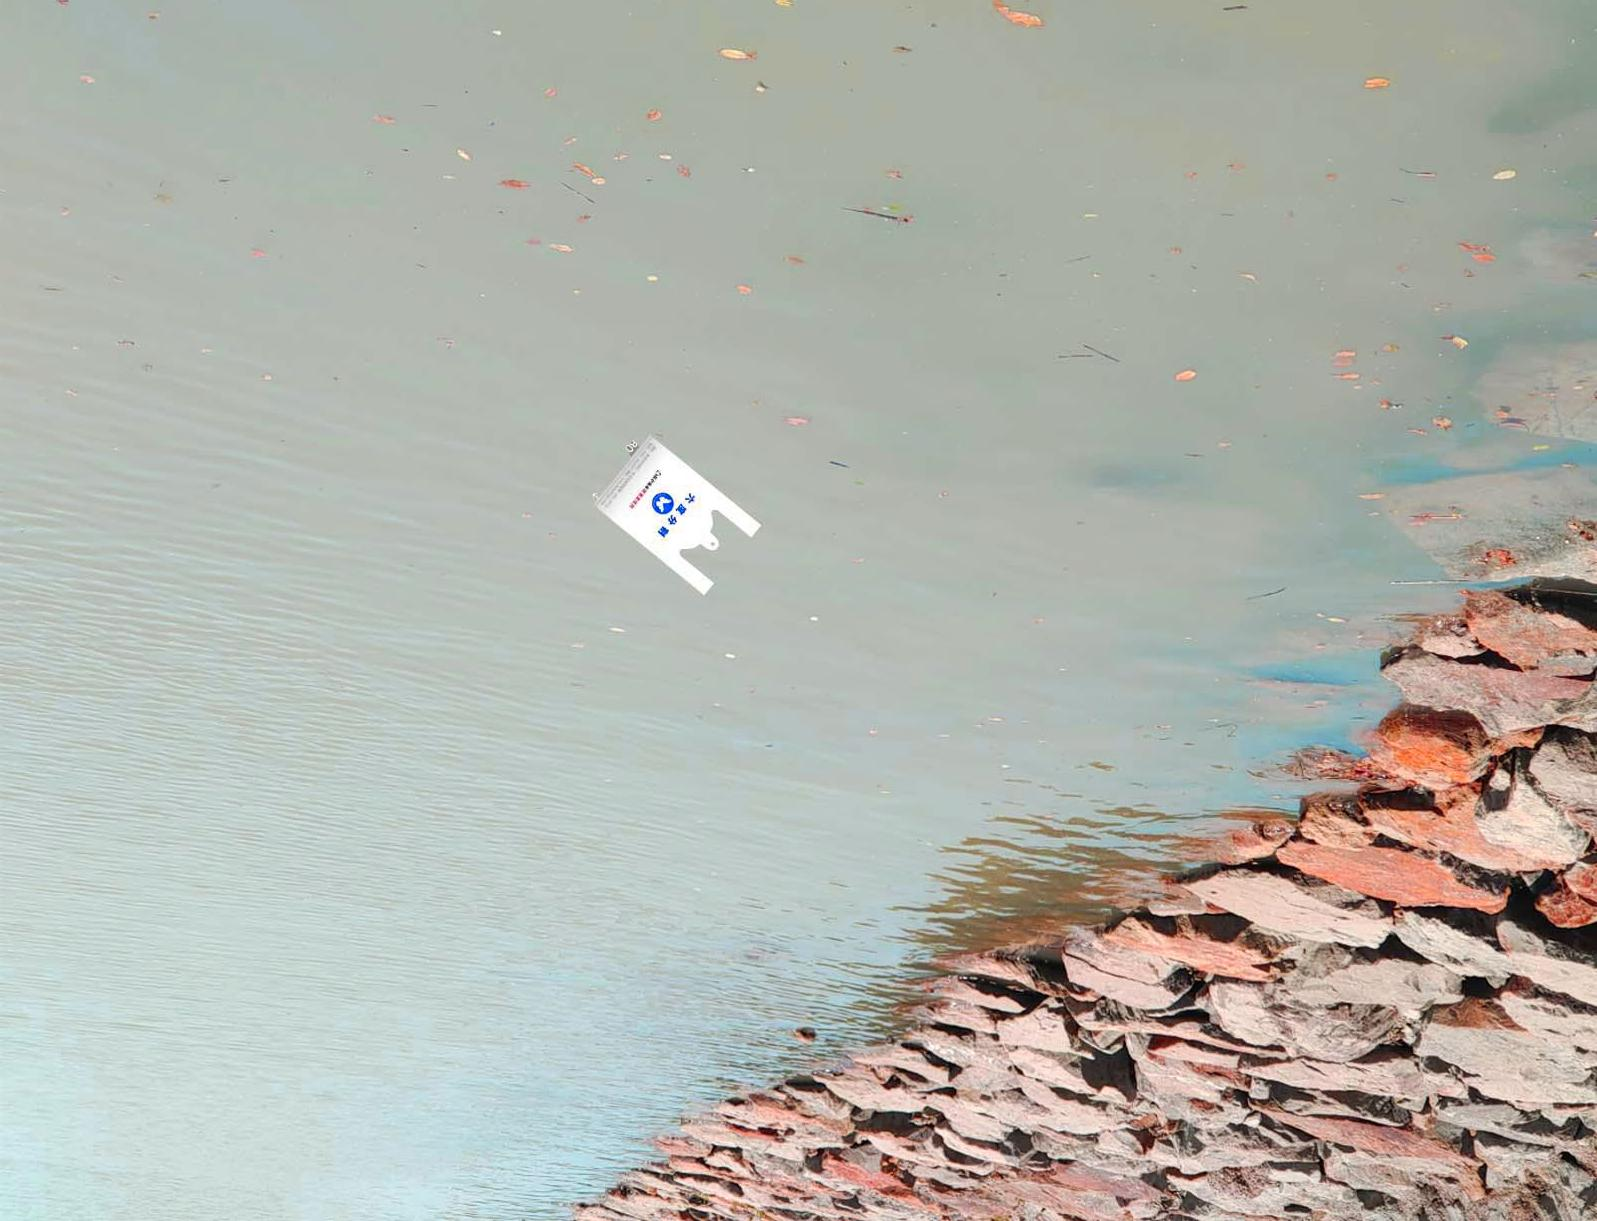Trash: (587, 431, 766, 598)
